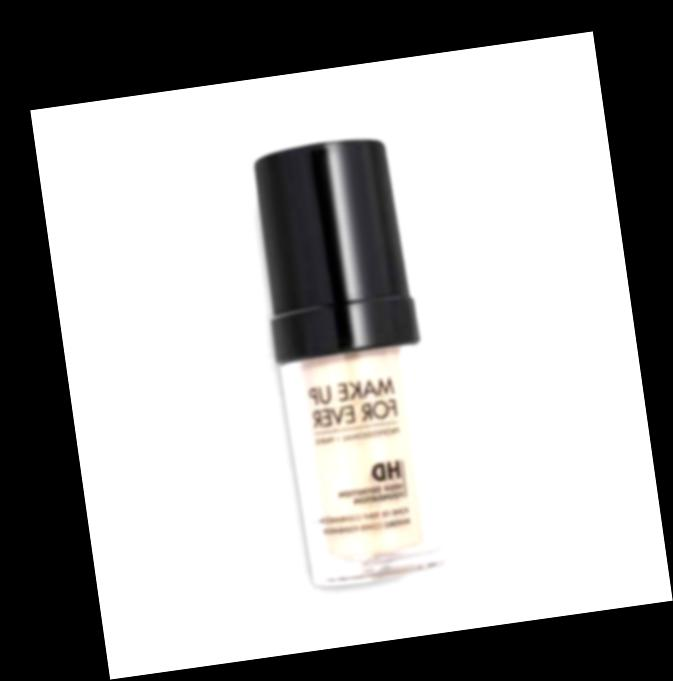cosmetic: (243, 132, 457, 591)
